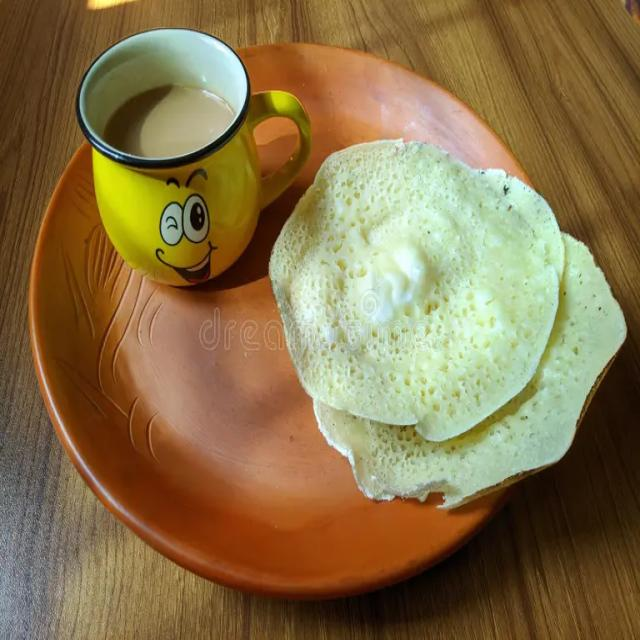AAPAM: (268, 140, 628, 504)
